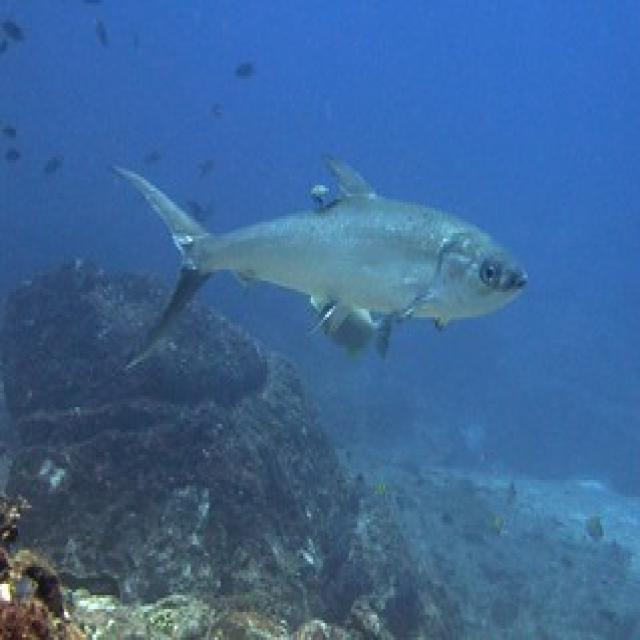Bangus: (104, 99, 550, 419)
